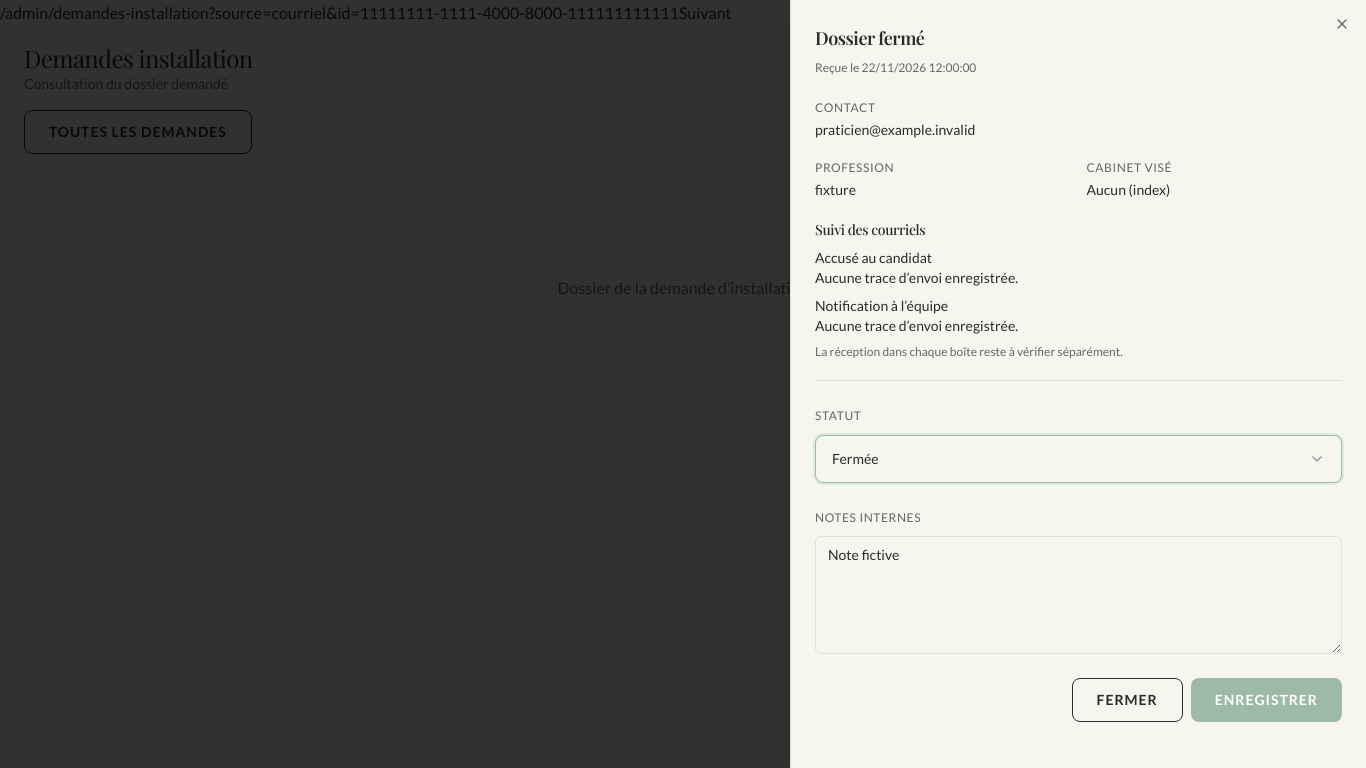
Test case: retrouve par son identifiant une demande fermée puis rend la liste en conservant les autres paramètres
This screenshot has width=1366, height=768.
Expected: the dialog shows "Dossier fermé", [815,26,924,50]
Expected: the text "500 demandes" is not shown
Click the button "Fermer" at (1127, 700), box [1072,678,1183,722]
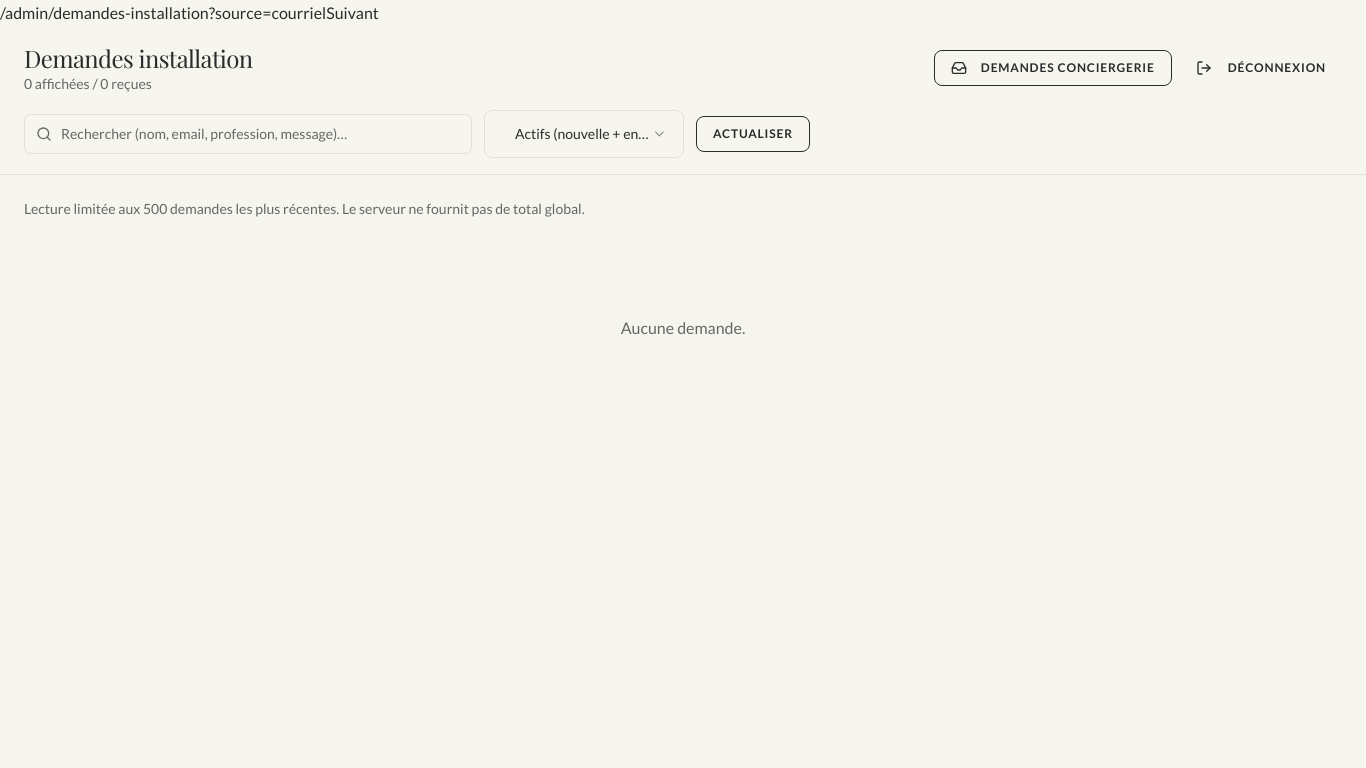
Result: the dialog is gone
